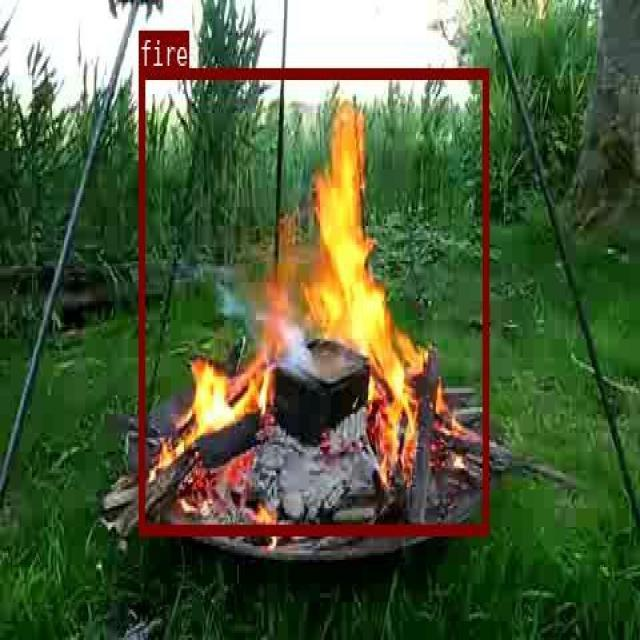fire: (139, 67, 488, 534)
